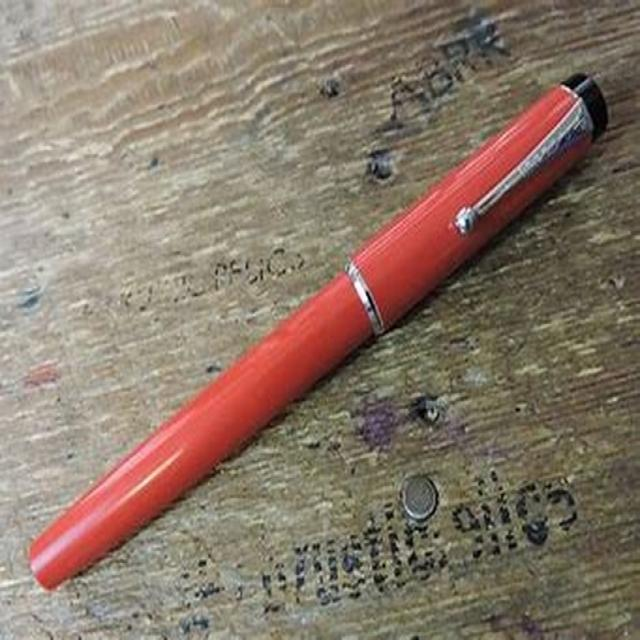key: (8, 48, 609, 602)
